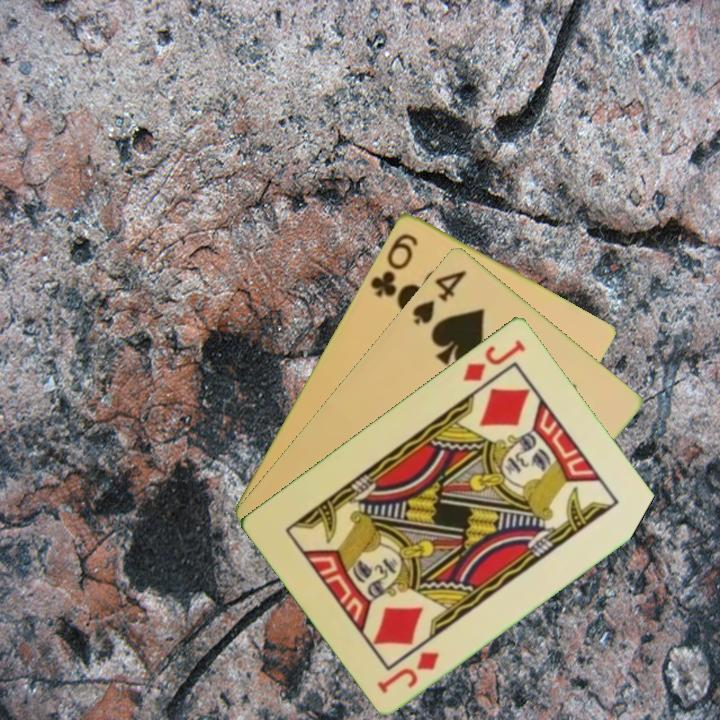4s: (408, 265, 470, 328)
6c: (366, 229, 421, 300)
Jd: (459, 335, 529, 384), (373, 647, 443, 696)
